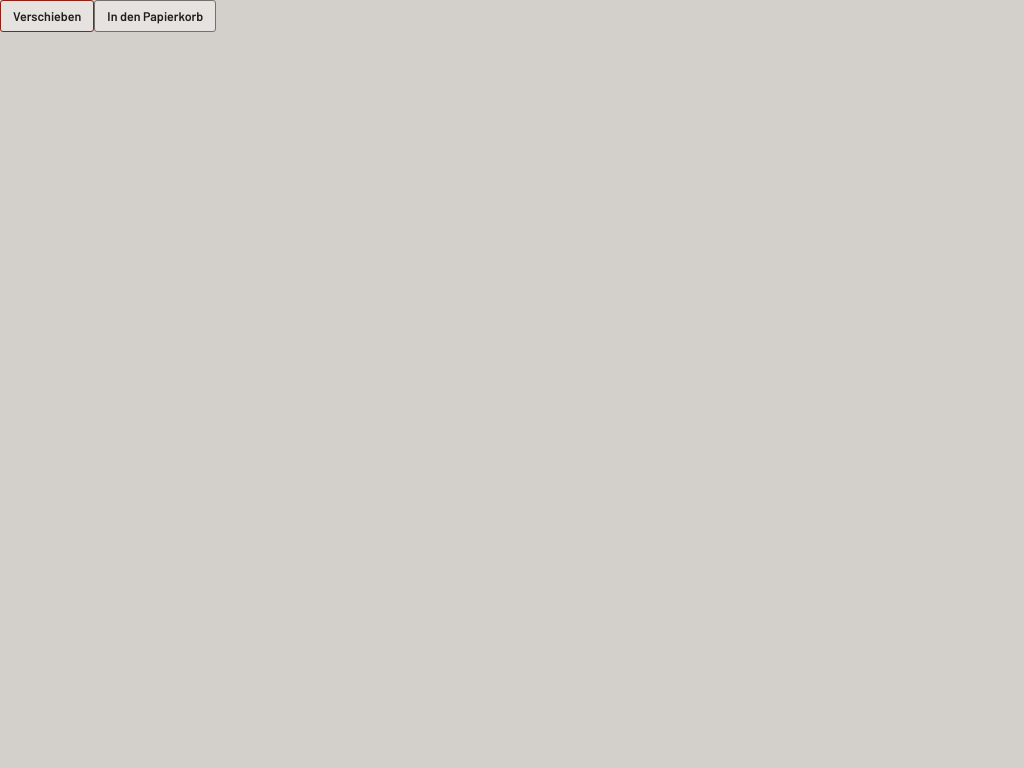
Test case: lets the cancel button work while running and sends no further chunk
Later steps or results of the test are not shown.
Step 1. Click the button "In den Papierkorb" → (155, 16), box [94, 0, 216, 32]
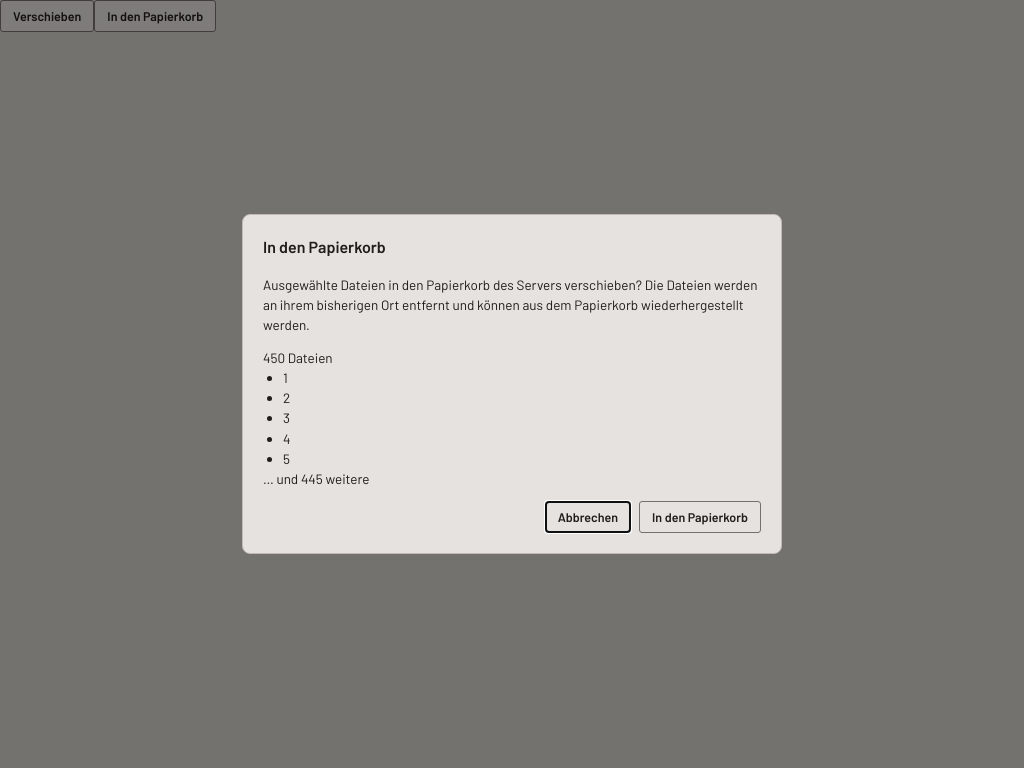
Step 2. Click the button "In den Papierkorb" → (700, 517), box [639, 501, 761, 533]
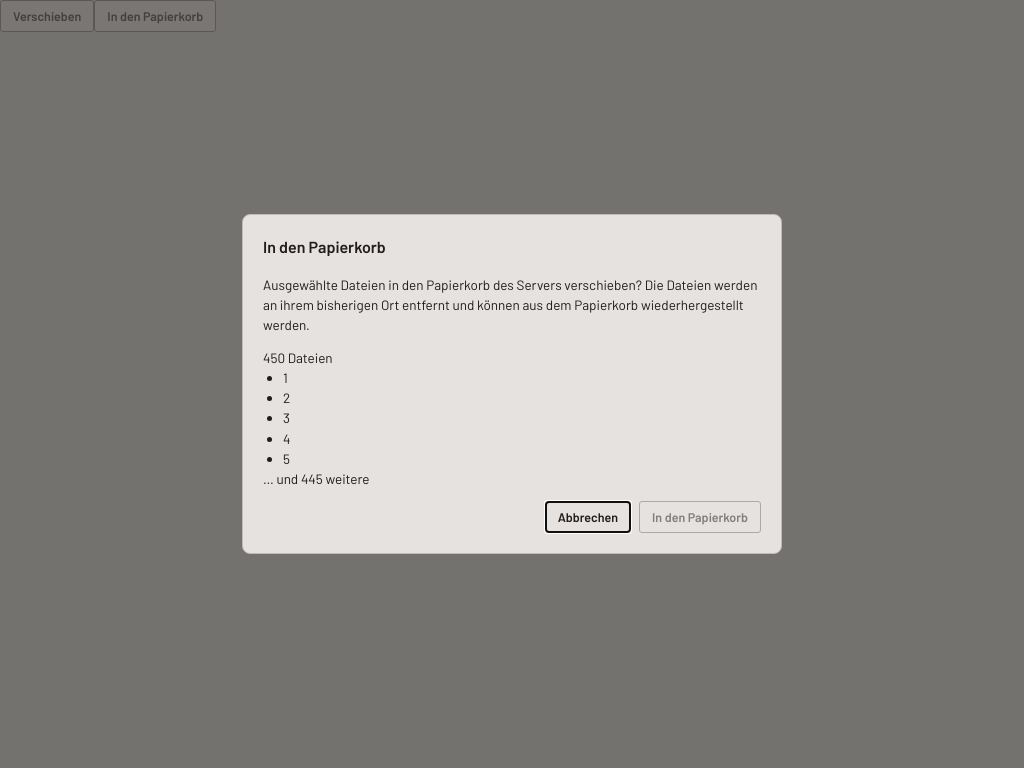
Check: the button "Abbrechen" is enabled
Step 3. Click the button "Abbrechen" → (588, 517), box [545, 501, 631, 533]
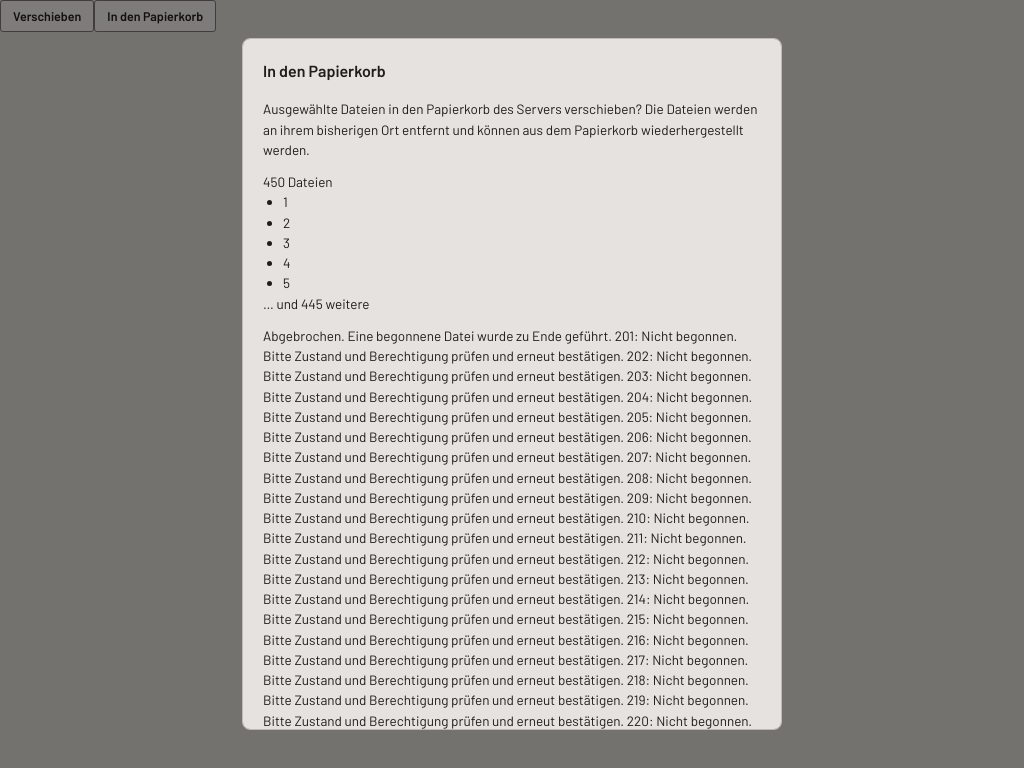
Check: the dialog is shown, box [242, 38, 782, 730]
